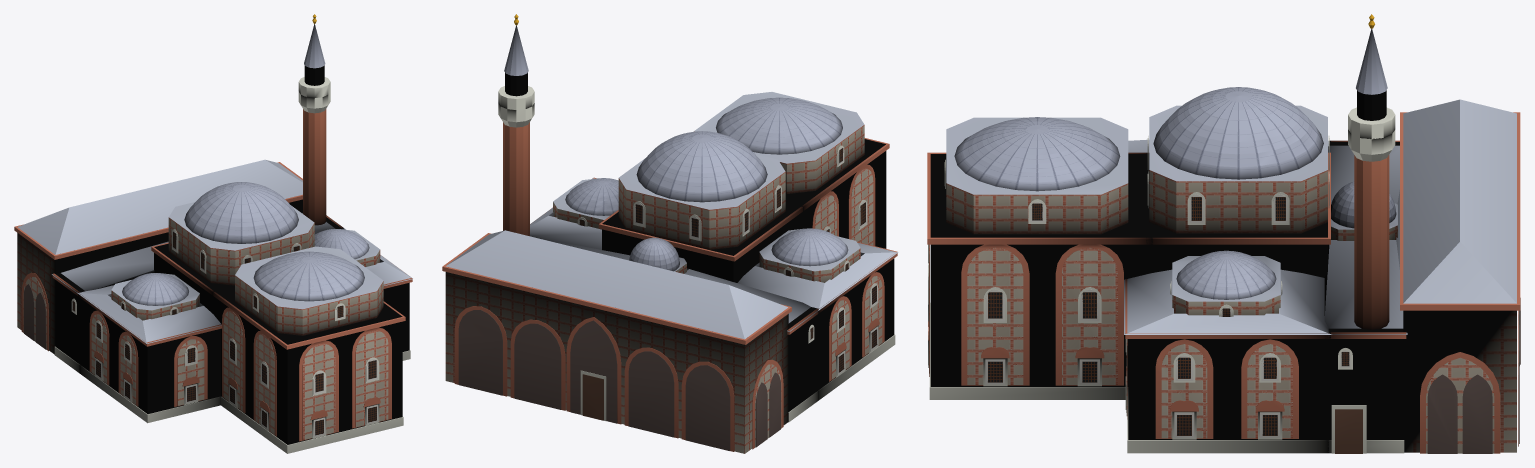
The model's file is orhan-bey-camii_v02.glb.
The picture shows the model from 3 angles, left to right: view 1: azimuth 30°, elevation 25°; view 2: azimuth 150°, elevation 25°; view 3: azimuth 270°, elevation 25°; orthographic projection. The views are drawn at different scales.
Parts seen in each view (by area): view 1: Cepheler, Cami_SonCemaat, Kubbe_Mihrap, Kubbe_Ana, Cami_Mihrap, Cati_Kanatlar, Cami_Kanat_B, Minare_1, Sacak, Kaide_Bant, Kubbe_Tabhane_B, Cami_Koridor (+4 smaller); view 2: Cami_SonCemaat, Revak_SonCemaat, Kubbe_Ana, Kubbe_Mihrap, Cepheler, Cati_Kanatlar, Minare_1, Sacak, Kubbe_Tabhane_B, Cami_Harim, Cami_Mihrap, Cami_Kanat_B (+4 smaller); view 3: Cepheler, Cami_SonCemaat, Kubbe_Ana, Kubbe_Mihrap, Cami_Mihrap, Cati_Kanatlar, Minare_1, Cami_Kanat_D, Sacak, Revak_SonCemaat, Cami_Koridor, Kubbe_Tabhane_D (+3 smaller).
Boxes of the visible parts, x1=… form: Cepheler: x1=71, y1=229, x2=391, y2=441; Cami_SonCemaat: x1=17, y1=159, x2=302, y2=354; Kubbe_Mihrap: x1=235, y1=246, x2=383, y2=335; Kubbe_Ana: x1=168, y1=182, x2=314, y2=285; Cami_Mihrap: x1=214, y1=286, x2=402, y2=444; Cati_Kanatlar: x1=52, y1=213, x2=412, y2=343; Cami_Kanat_B: x1=80, y1=298, x2=220, y2=413; Minare_1: x1=298, y1=14, x2=330, y2=225; Sacak: x1=14, y1=162, x2=412, y2=349; Kaide_Bant: x1=54, y1=346, x2=410, y2=453; Kubbe_Tabhane_B: x1=111, y1=273, x2=199, y2=320; Cami_Koridor: x1=55, y1=217, x2=341, y2=364; Cami_SonCemaat: x1=445, y1=230, x2=788, y2=453; Revak_SonCemaat: x1=454, y1=306, x2=783, y2=451; Kubbe_Ana: x1=618, y1=131, x2=785, y2=249; Kubbe_Mihrap: x1=694, y1=92, x2=864, y2=193; Cepheler: x1=577, y1=145, x2=884, y2=381; Cati_Kanatlar: x1=530, y1=178, x2=898, y2=331; Minare_1: x1=498, y1=14, x2=534, y2=236; Sacak: x1=442, y1=138, x2=897, y2=344; Kubbe_Tabhane_B: x1=759, y1=228, x2=860, y2=282; Cami_Harim: x1=602, y1=202, x2=802, y2=282; Cami_Mihrap: x1=785, y1=139, x2=886, y2=248; Cami_Kanat_B: x1=817, y1=258, x2=894, y2=390; Cepheler: x1=928, y1=136, x2=1366, y2=453; Cami_SonCemaat: x1=1403, y1=99, x2=1516, y2=452; Kubbe_Ana: x1=1149, y1=87, x2=1327, y2=233; Kubbe_Mihrap: x1=946, y1=117, x2=1128, y2=234; Cami_Mihrap: x1=930, y1=154, x2=1149, y2=386; Cati_Kanatlar: x1=1124, y1=139, x2=1407, y2=334; Minare_1: x1=1348, y1=14, x2=1395, y2=329; Cami_Kanat_D: x1=1128, y1=339, x2=1327, y2=439; Sacak: x1=927, y1=112, x2=1520, y2=338; Revak_SonCemaat: x1=1420, y1=298, x2=1520, y2=453; Cami_Koridor: x1=1328, y1=142, x2=1403, y2=439; Kubbe_Tabhane_D: x1=1172, y1=250, x2=1280, y2=315.
Size of the model in its own units: 26.2 by 27.05 by 33.88.
Materials: 11 (3 with a texture image).
